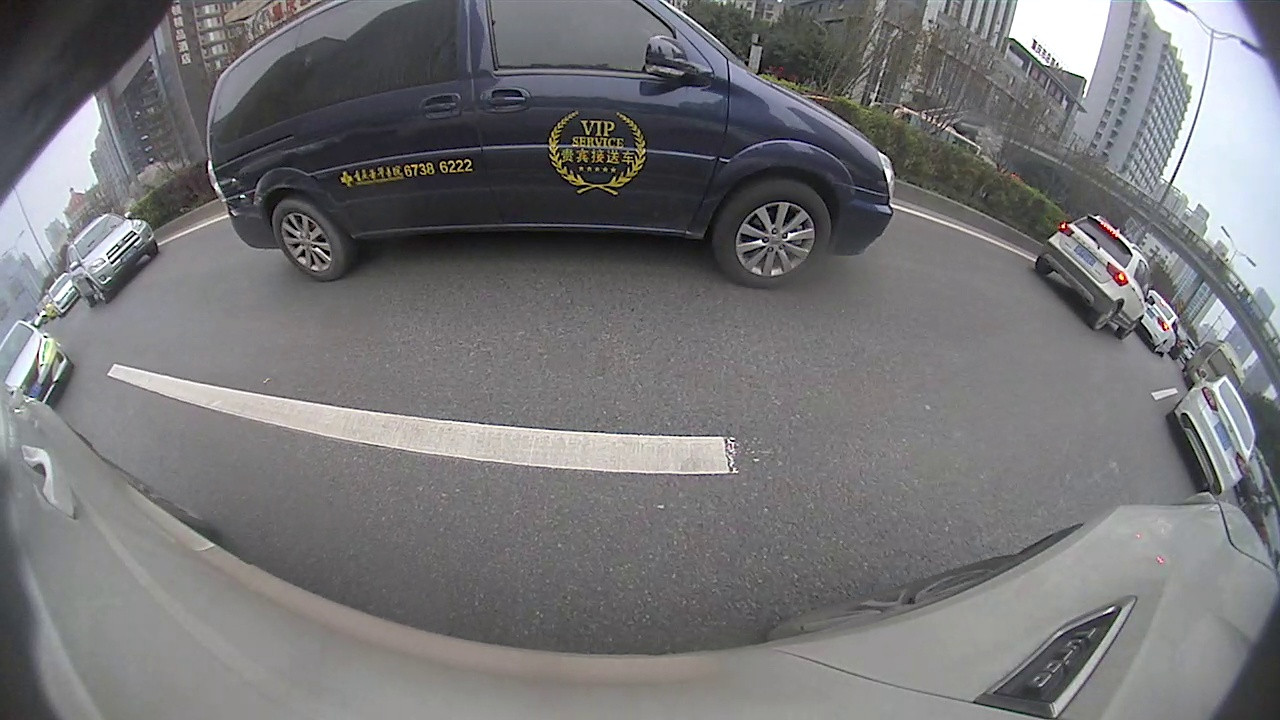car: (203, 3, 894, 291), (1033, 210, 1156, 344), (1166, 376, 1257, 498), (64, 208, 159, 311)
front: (717, 186, 834, 287)
rear: (269, 202, 347, 280), (1091, 301, 1122, 330)
